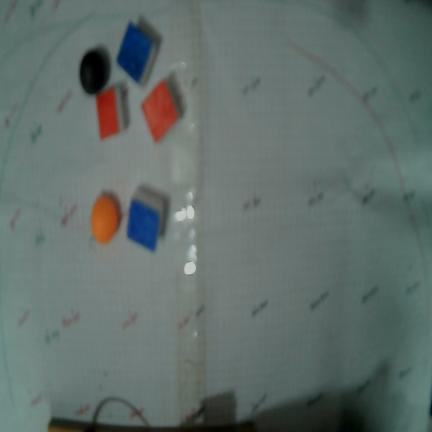circle_blue: (79, 45, 111, 94)
circle_orange: (91, 195, 119, 243)
rectangle_blue: (128, 198, 159, 249)
rectangle_orange: (97, 84, 119, 141)
square_blue: (117, 14, 154, 84)
square_orange: (142, 79, 179, 141)
